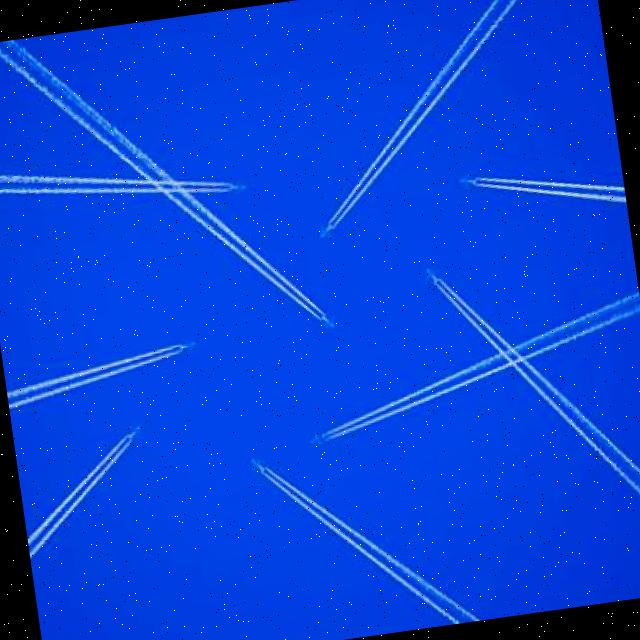Ct: (1, 1, 640, 567)
